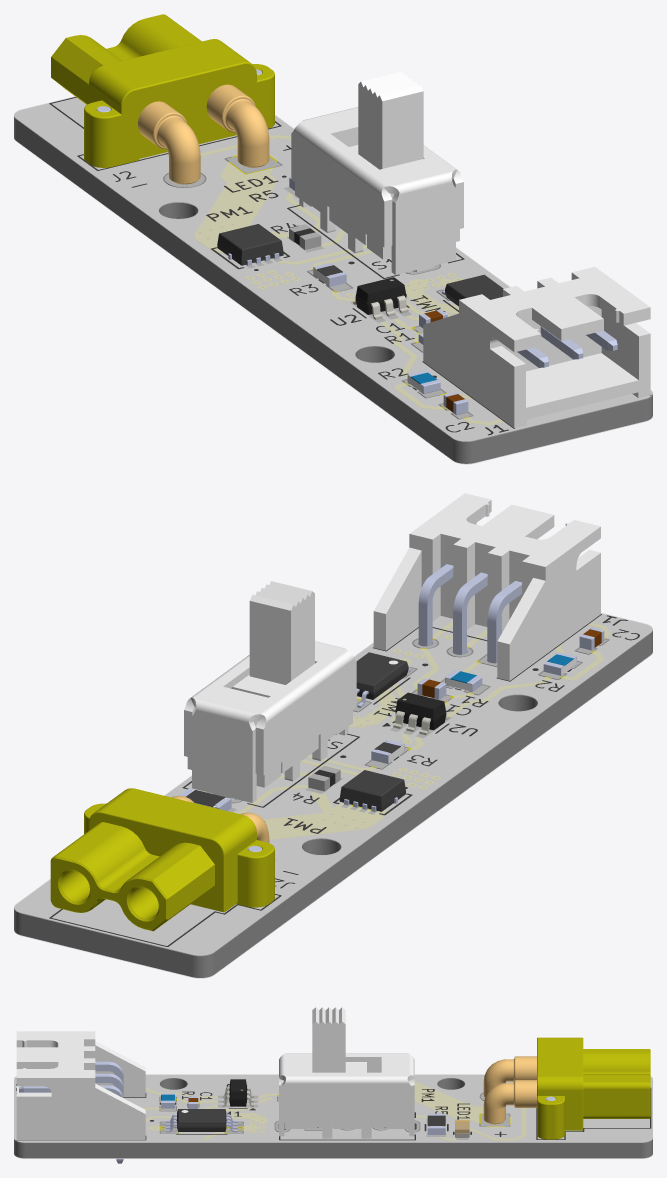
Rendered from DART_Battery.glb.
3 views of the same model, one above another, from view 1: azimuth 30°, elevation 25°; view 2: azimuth 150°, elevation 25°; view 3: azimuth 270°, elevation 25° (orthographic). The views are drawn at different scales.
Visible parts, largest first — view 1: =>[0:1:1:19], =>[0:1:1:18], J2, NAUO1, S1, =>[0:1:1:14], =>[0:1:1:17], PM1, =>[0:1:1:15], U2, NM1; view 2: =>[0:1:1:19], =>[0:1:1:18], NAUO1, S1, J2, =>[0:1:1:14], =>[0:1:1:17], PM1, NM1, U2, =>[0:1:1:15], NAUO4 (+2 smaller); view 3: =>[0:1:1:19], =>[0:1:1:18], J2, S1, NAUO1, =>[0:1:1:14], NM1, =>[0:1:1:17], =>[0:1:1:15], U2, R5, NAUO4 (+3 smaller).
Boxes of the visible parts, box(x1,y1,x2,y2) form: =>[0:1:1:19]: box(14, 98, 652, 463); =>[0:1:1:18]: box(14, 96, 652, 464); J2: box(51, 14, 274, 184); NAUO1: box(423, 266, 650, 428); S1: box(291, 71, 463, 274); =>[0:1:1:14]: box(195, 135, 502, 424); =>[0:1:1:17]: box(49, 97, 651, 435); PM1: box(217, 224, 283, 265); =>[0:1:1:15]: box(164, 156, 471, 419); U2: box(353, 277, 408, 319); NM1: box(442, 274, 503, 306); =>[0:1:1:19]: box(14, 614, 652, 977); =>[0:1:1:18]: box(14, 613, 652, 978); NAUO1: box(373, 493, 600, 680); S1: box(184, 581, 356, 802); J2: box(50, 788, 274, 931); =>[0:1:1:14]: box(235, 621, 609, 839); =>[0:1:1:17]: box(49, 614, 639, 946); PM1: box(339, 770, 405, 811); NM1: box(356, 652, 411, 707); U2: box(393, 692, 448, 735); =>[0:1:1:15]: box(209, 639, 607, 814); NAUO4: box(418, 564, 453, 646); =>[0:1:1:19]: box(14, 1075, 652, 1158); =>[0:1:1:18]: box(14, 1074, 652, 1158); J2: box(483, 1037, 650, 1139); S1: box(279, 1007, 414, 1138); NAUO1: box(16, 1031, 145, 1139); =>[0:1:1:14]: box(144, 1082, 525, 1139); NM1: box(166, 1109, 237, 1132); =>[0:1:1:17]: box(16, 1082, 651, 1140); =>[0:1:1:15]: box(160, 1093, 509, 1139); U2: box(222, 1079, 253, 1106); R5: box(427, 1113, 445, 1134); NAUO4: box(19, 1085, 123, 1163).
Size of the model in its own units: 0.0144 by 0.0145 by 0.057.
